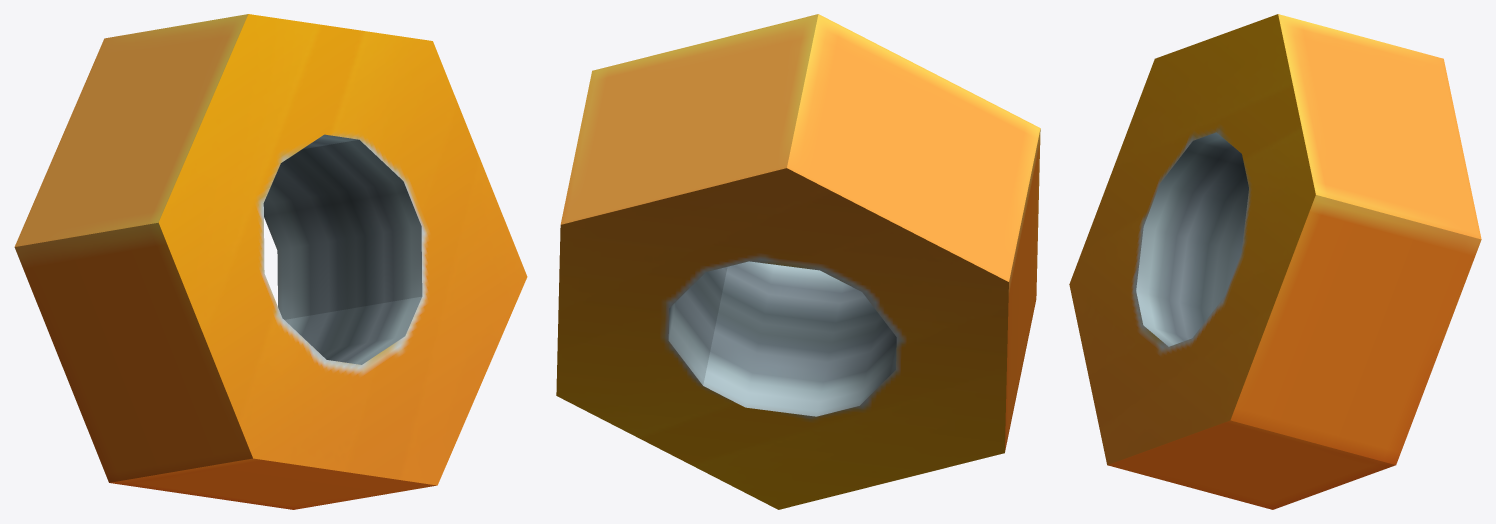
Rendered from resources.FBX.
3 views of the same model, side by side, from view 1: azimuth 30°, elevation 25°; view 2: azimuth 150°, elevation 25°; view 3: azimuth 270°, elevation 25° (orthographic). The views are drawn at different scales.
Parts seen in each view (by area): view 1: res_drop_red; view 2: res_drop_red; view 3: res_drop_red.
Boxes of the visible parts, left/top/right/bottom form: res_drop_red: left=14, top=14, right=527, bottom=509; res_drop_red: left=556, top=14, right=1040, bottom=509; res_drop_red: left=1069, top=14, right=1481, bottom=509.
Size of the model in its own units: 4.98 by 5.16 by 4.05.
